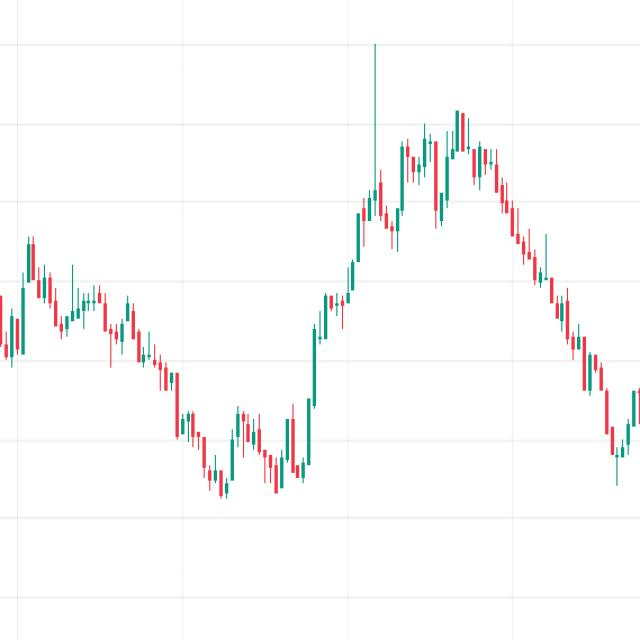Triple-Bottom: (182, 372, 330, 520)
